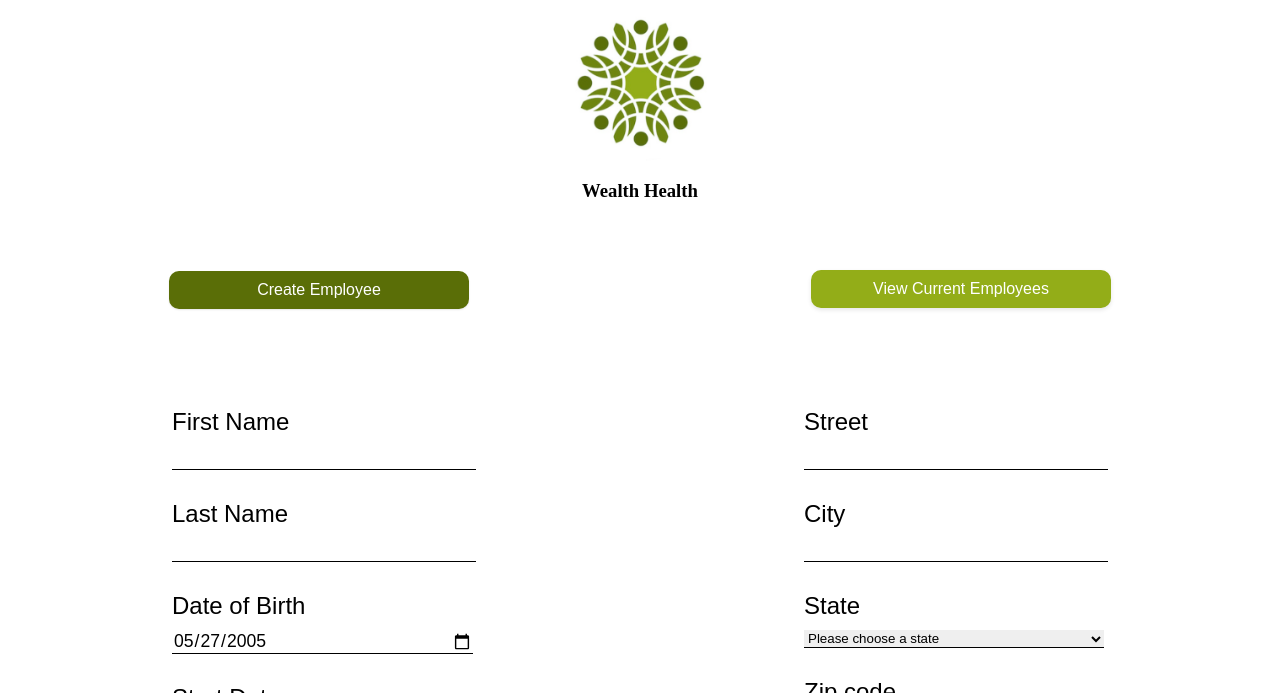
Test: form shows errors when fields are left empty and form is submitted
The image size is (1280, 693).
// Saisir des valeurs incorrectes dans chaque champ
In the field labelled "First Name": (324, 458) [172, 446, 476, 470], type "A"
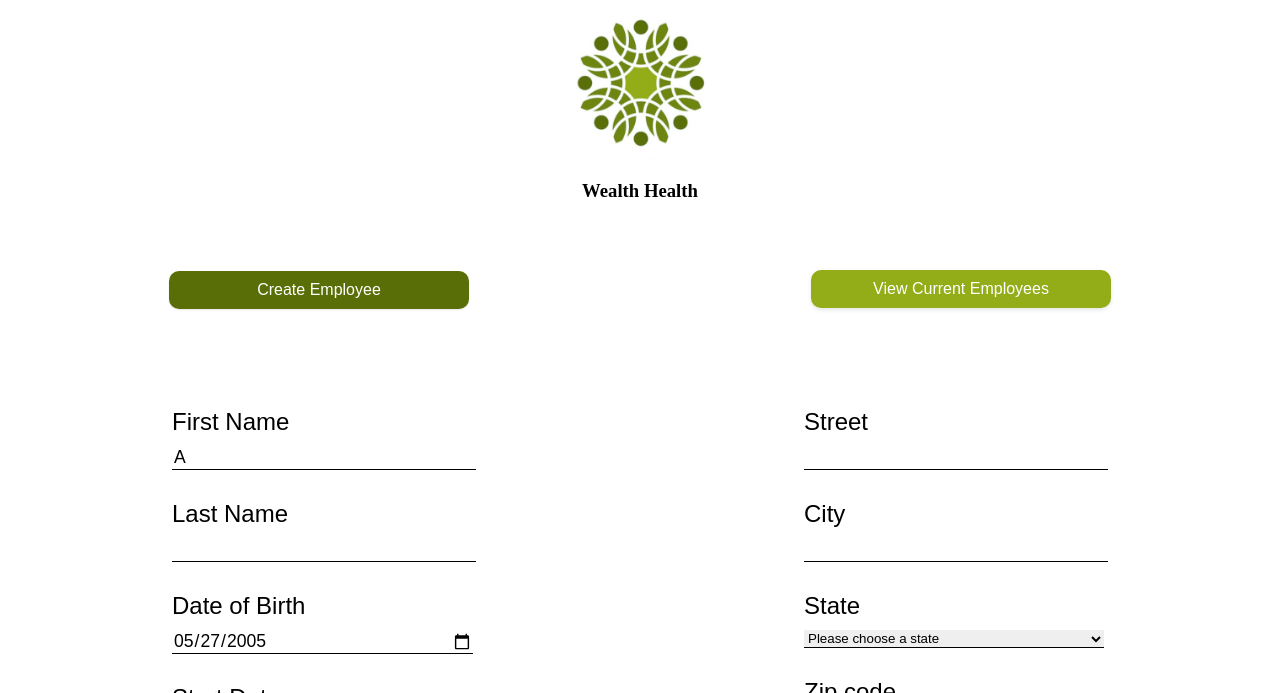
In the field labelled "Last Name": (324, 550) [172, 538, 476, 562], type "B"
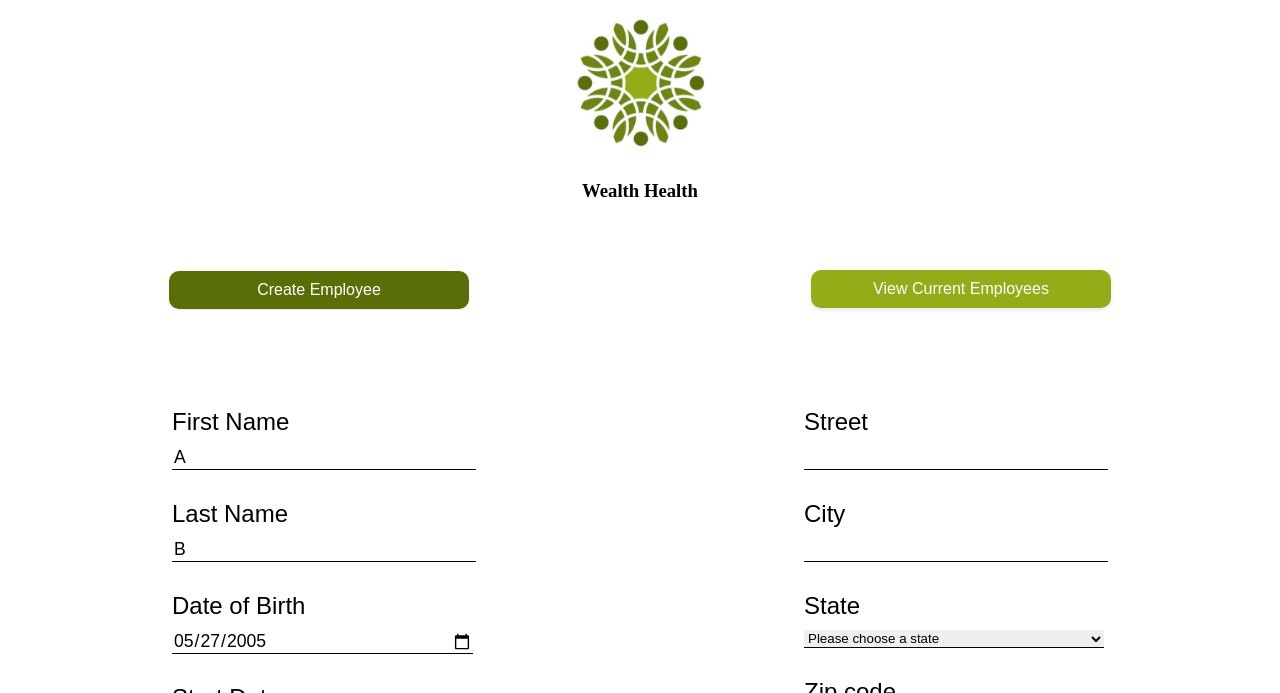
Select "Please choose a state" in the dropdown labelled "State": (954, 639) [804, 630, 1104, 648]
(page scrolled)
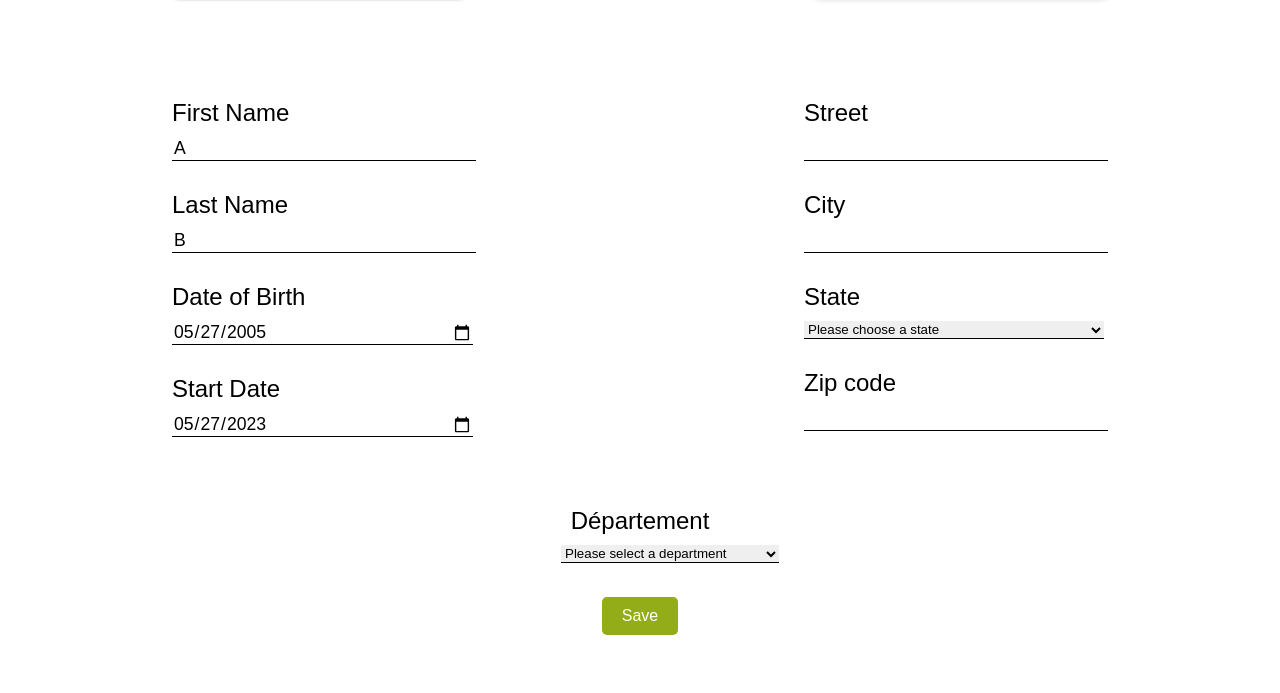
In the field labelled "Zip code": (956, 419) [804, 407, 1108, 431], type "123"
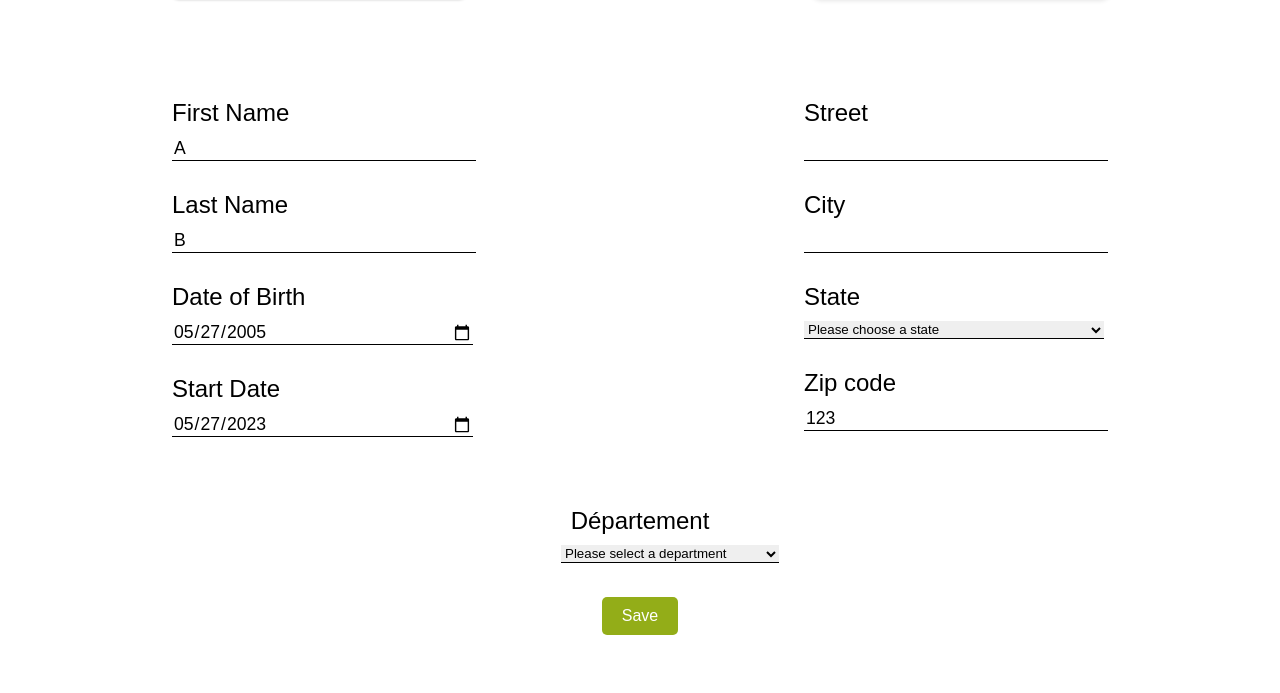
// Simulate form submission
Click the button "Save": (640, 616) [602, 597, 678, 635]
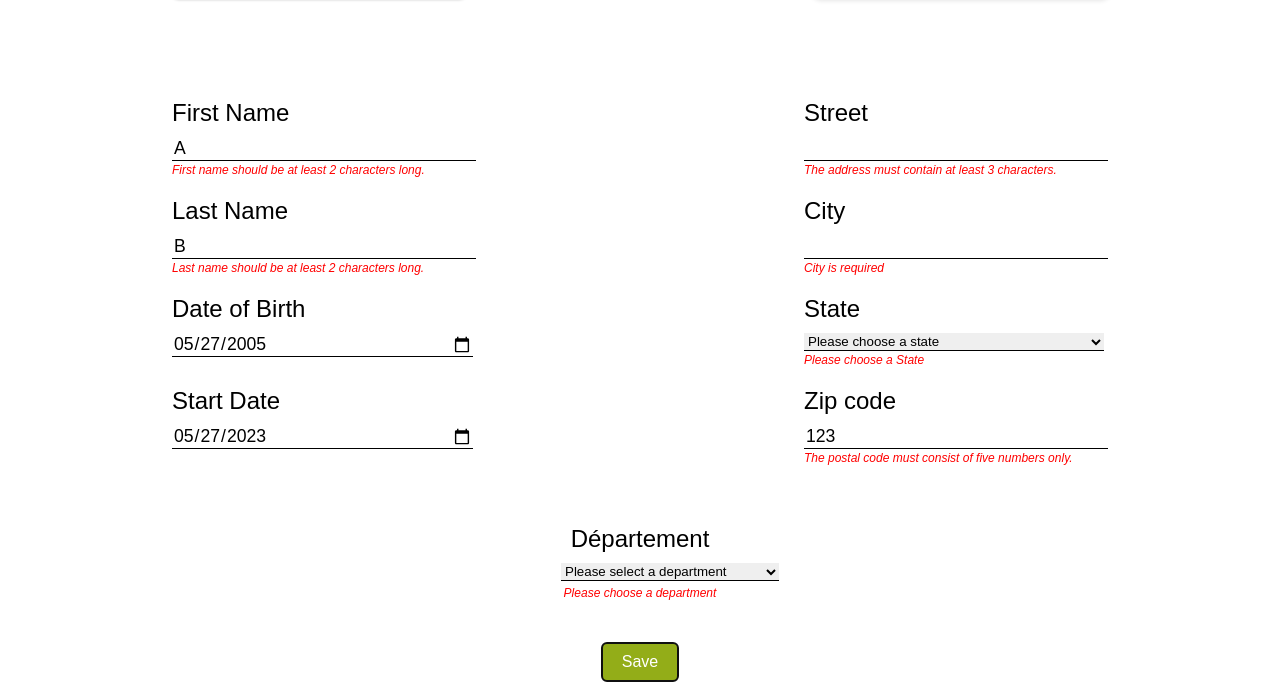
Check: the text "First name should be at least 2 characters long." is shown, box [172, 163, 425, 177]
Check: the text "Last name should be at least 2 characters long." is shown, box [172, 261, 424, 275]
Check: the text "The address must contain at least 3 characters." is shown, box [804, 163, 1057, 177]
